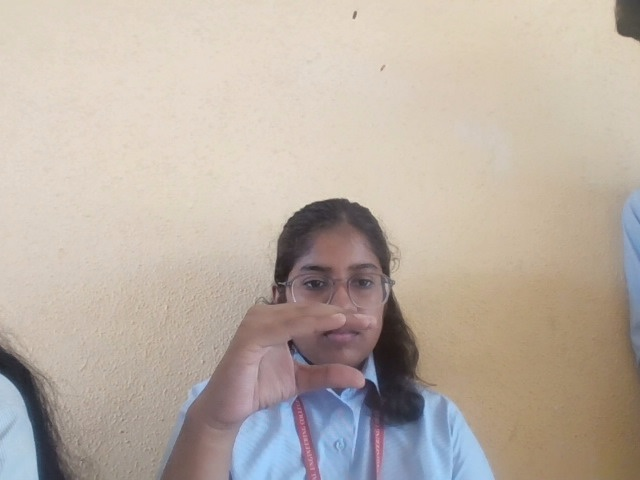No: (193, 297, 389, 424)
